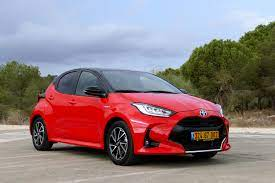licence: (188, 128, 220, 141)
